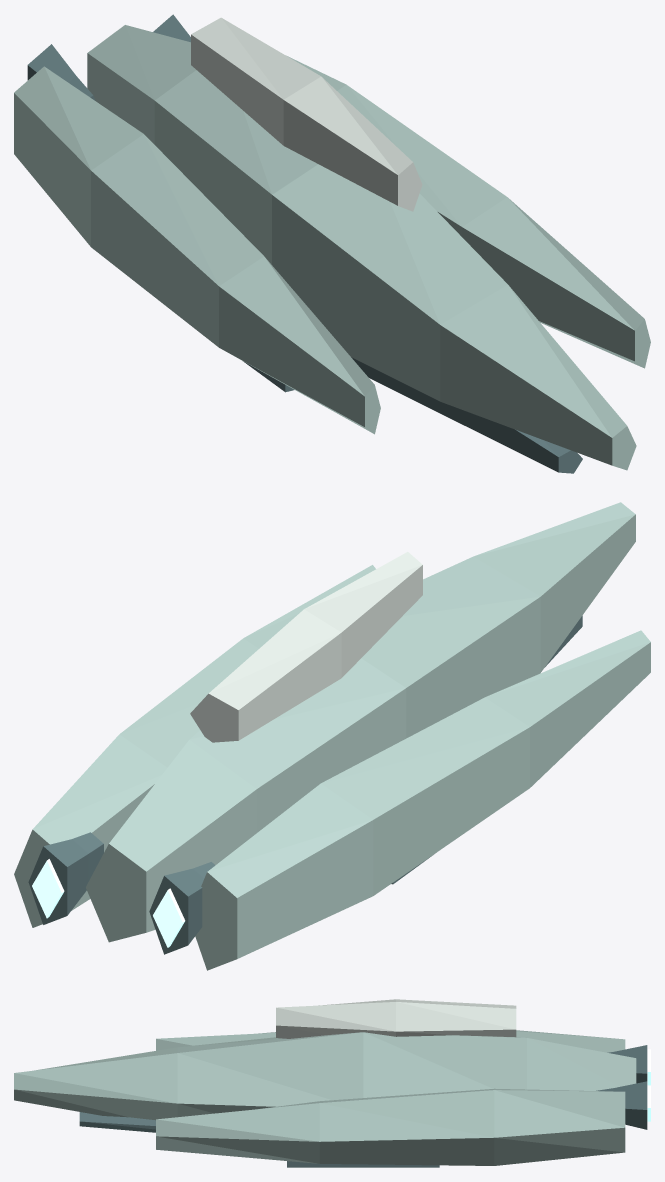
3 views of the same model, one above another, from view 1: azimuth 30°, elevation 25°; view 2: azimuth 150°, elevation 25°; view 3: azimuth 270°, elevation 25° (orthographic). The views are drawn at different scales.
Bounding box in the file's own units: 6.39 × 4.65 × 18.21.
